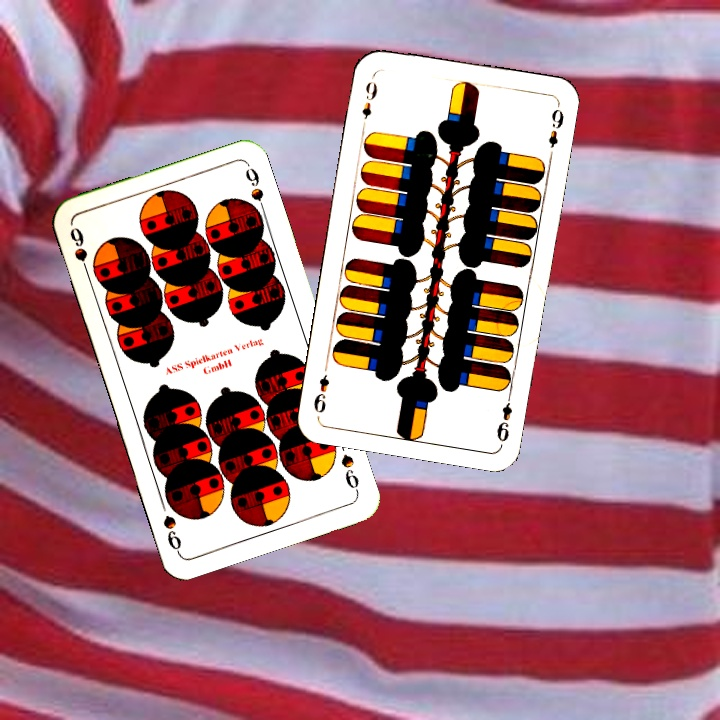E9: (492, 387, 515, 445), (358, 72, 380, 130)
S9: (66, 223, 93, 280), (337, 450, 362, 496)
